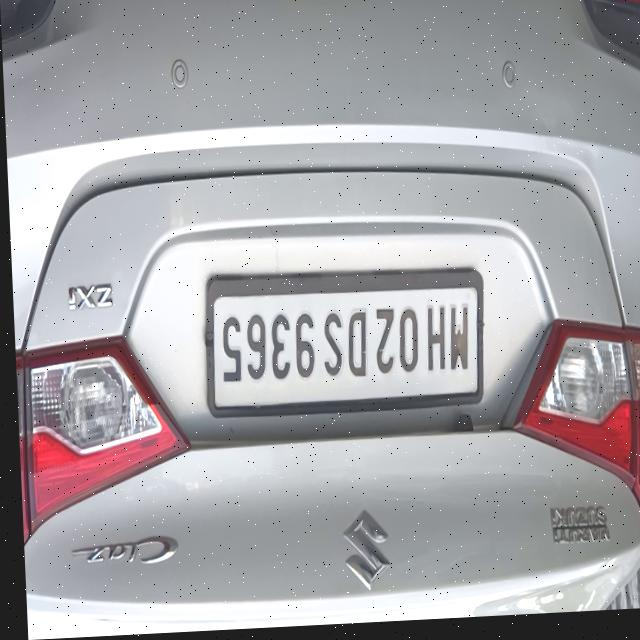plate: (199, 269, 485, 423)
